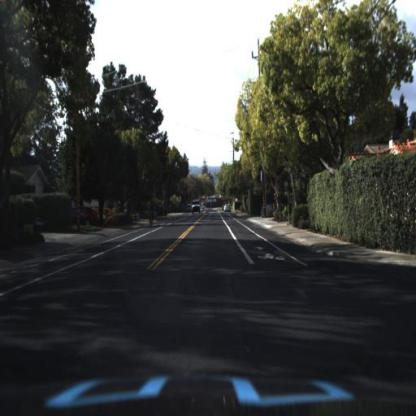biker: (144, 192, 158, 232), (148, 201, 156, 229)
car: (70, 200, 103, 238), (75, 206, 100, 229), (190, 199, 204, 222), (190, 199, 204, 215), (222, 201, 233, 215), (225, 201, 235, 213)
